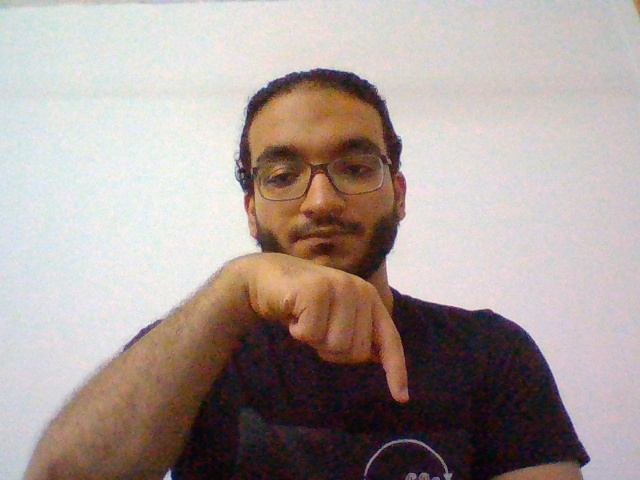Yes: (232, 246, 430, 400)
